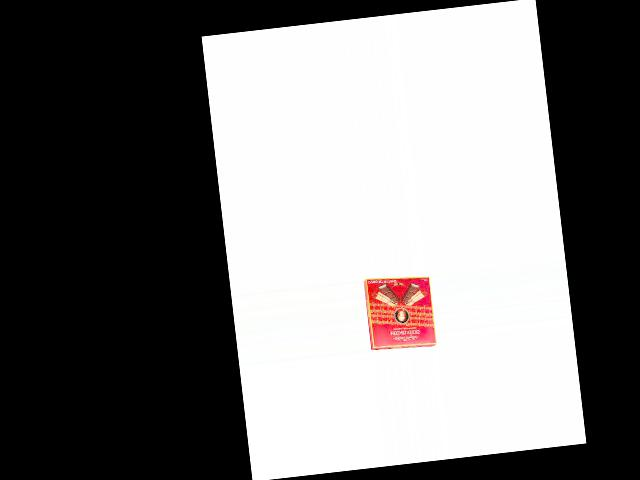chocolate: (362, 269, 438, 351)
